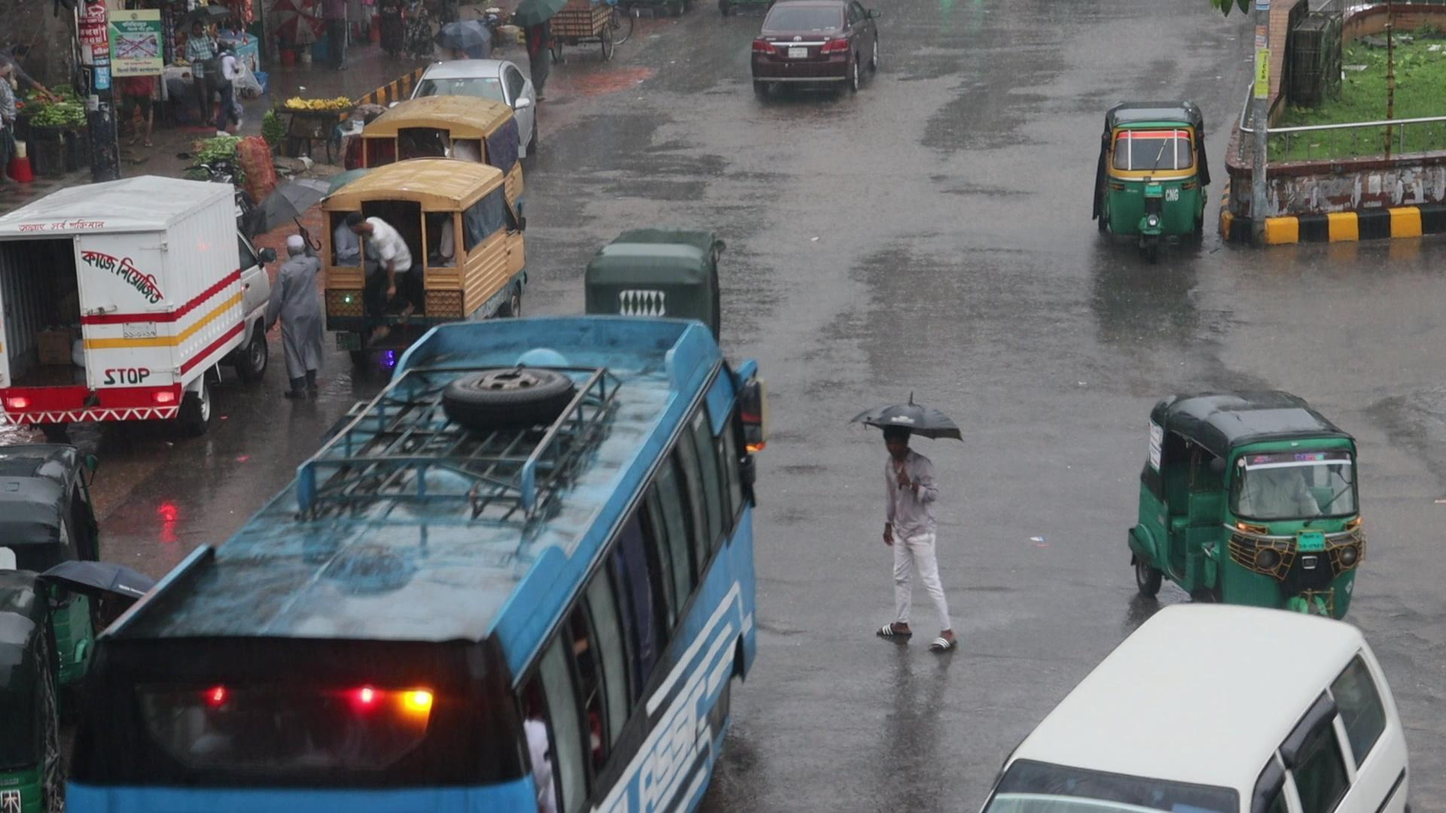Bus: (68, 314, 761, 813)
Car: (974, 601, 1412, 813), (750, 0, 880, 94)
Truck: (319, 155, 526, 320)
